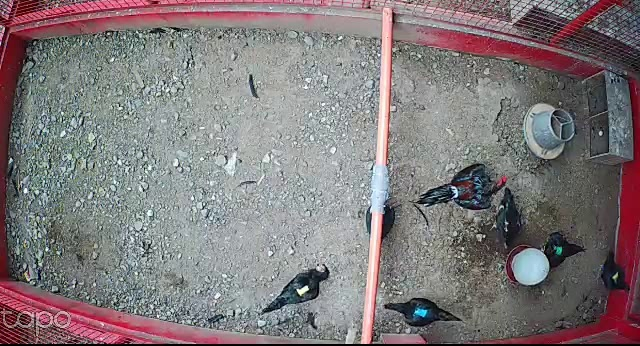Chicken: (265, 258, 329, 315), (359, 194, 398, 270), (484, 187, 529, 249), (383, 298, 464, 328), (531, 228, 587, 271), (591, 251, 634, 294)
Drinker: (504, 243, 552, 288)
Feeder: (523, 102, 578, 160)
Rooster: (415, 163, 508, 211)
Saddle_Color_Blue: (412, 306, 432, 321)
Saddle_Color_Yellow: (295, 283, 309, 296)
